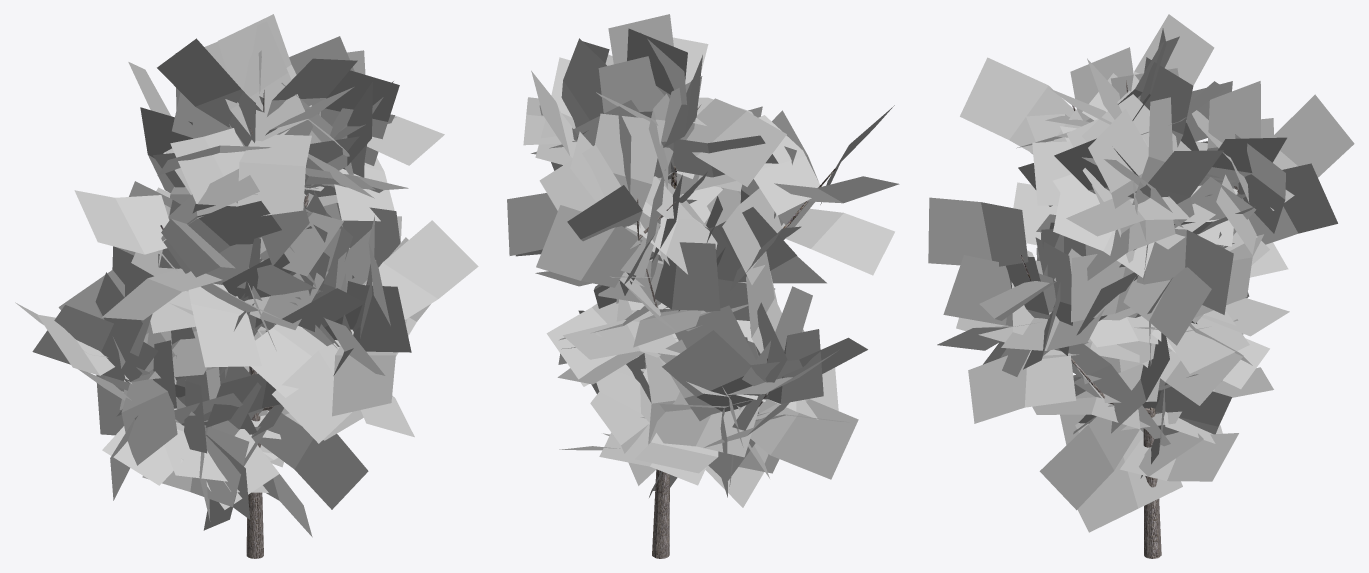
Rendered from tree.fbx.
The picture shows the model from 3 angles, left to right: view 1: azimuth 30°, elevation 25°; view 2: azimuth 150°, elevation 25°; view 3: azimuth 270°, elevation 25°; orthographic projection.
Visible parts, largest first — view 1: 1; view 2: 1; view 3: 1.
Boxes of the visible parts, bbox=[...] form: 1: bbox=[15, 14, 478, 558]; 1: bbox=[507, 14, 899, 558]; 1: bbox=[928, 14, 1354, 558].
Bounding box in the file's own units: 650 × 900 × 664.
